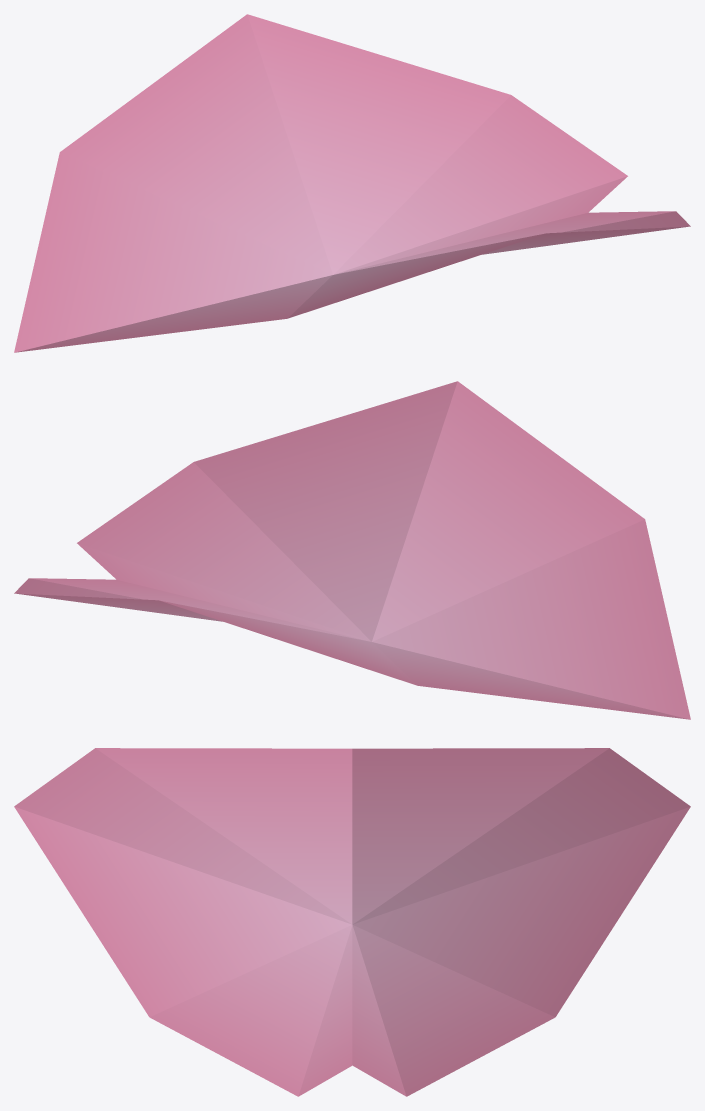
Rendered from SM_Petal.fbx.
3 views of the same model, one above another, from view 1: azimuth 30°, elevation 25°; view 2: azimuth 150°, elevation 25°; view 3: azimuth 270°, elevation 25° (orthographic). The views are drawn at different scales.
Visible parts, largest first — view 1: SM_Petal; view 2: SM_Petal; view 3: SM_Petal.
Boxes of the visible parts, x1,y1,x2,y2 form: SM_Petal: (14, 14, 690, 352); SM_Petal: (14, 381, 690, 719); SM_Petal: (14, 748, 690, 1096).
Bounding box in the file's own units: 6.4 × 1.3 × 5.2.
